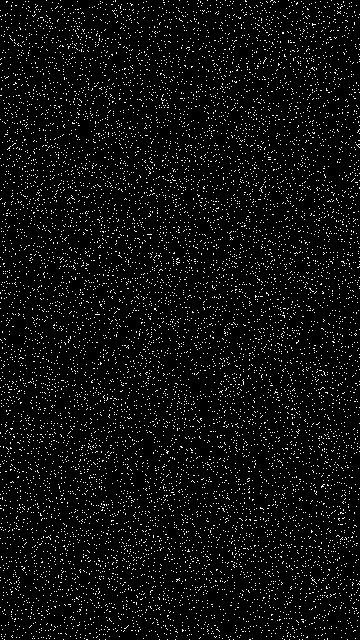pot: (145, 85, 293, 251)
